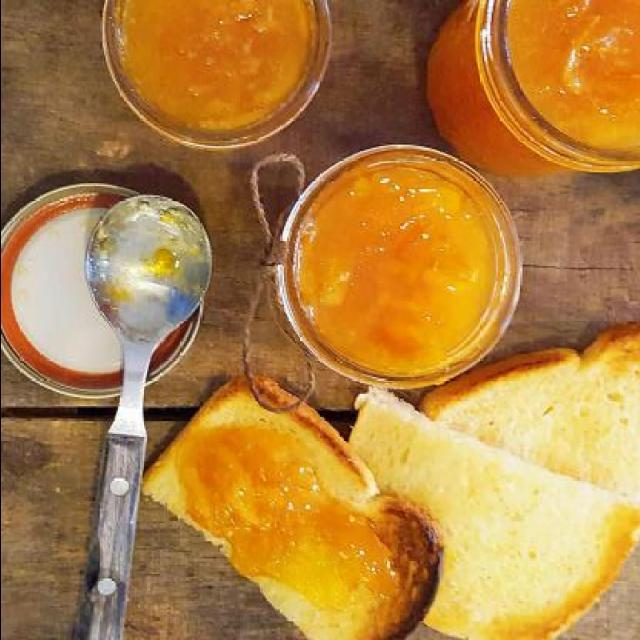Spread: (164, 408, 398, 624)
